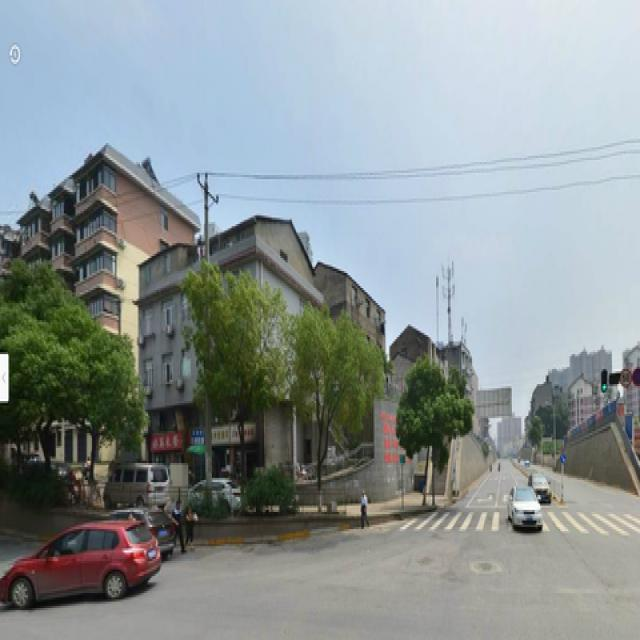cinn: (207, 279, 269, 480), (299, 316, 348, 497), (72, 324, 120, 486), (404, 365, 443, 499)
